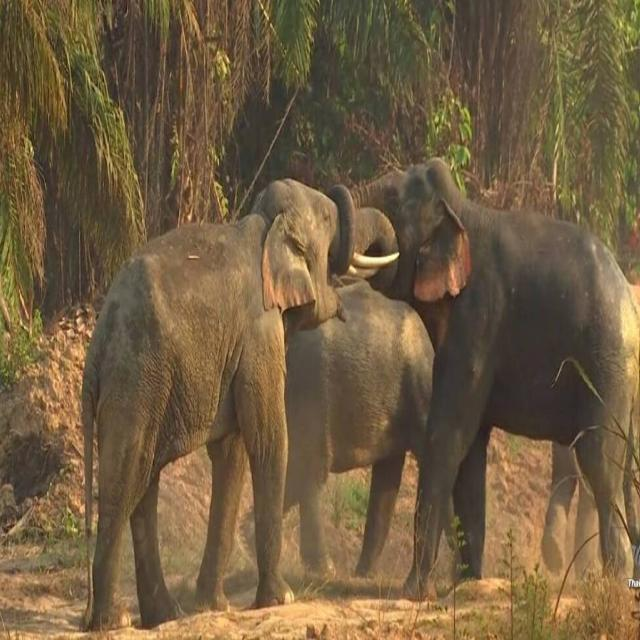Elephant: (70, 130, 394, 624), (383, 125, 640, 610)
